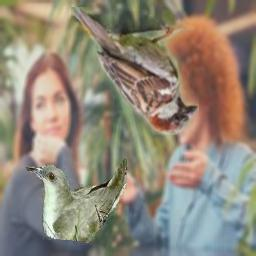Cuckoo: (26, 157, 127, 245)
Sparrow: (71, 7, 199, 135)
